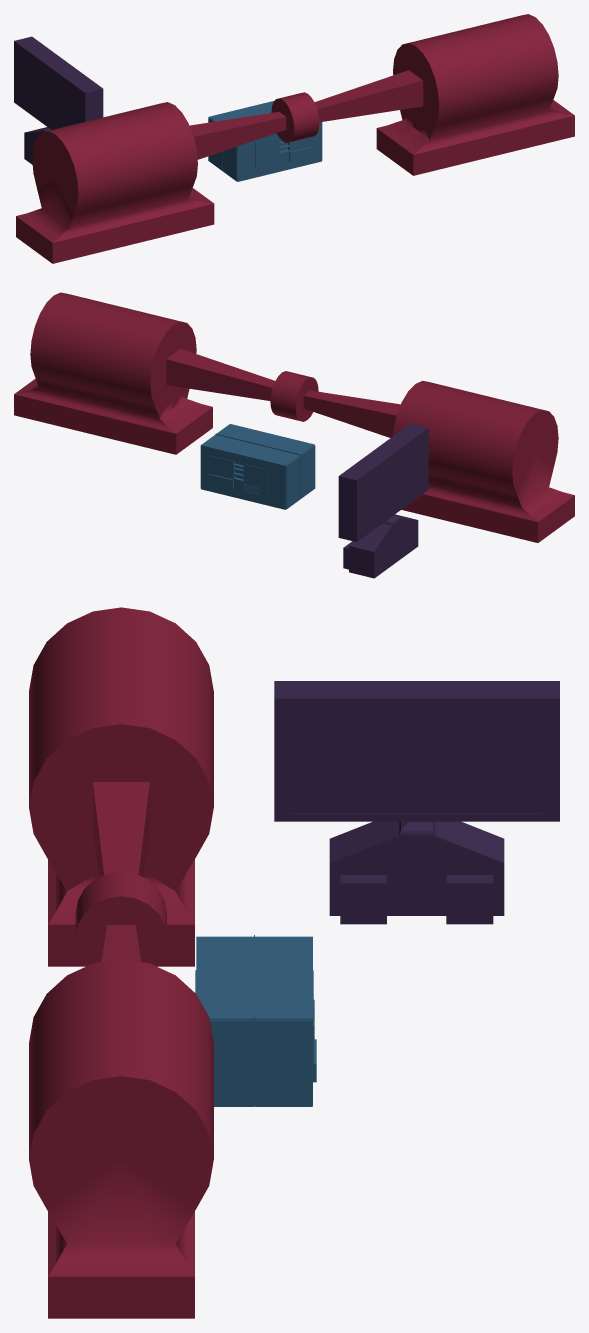
The model's file is Generator Room Furniture.obj.
The picture shows the model from 3 angles, top to bottom: view 1: azimuth 30°, elevation 25°; view 2: azimuth 150°, elevation 25°; view 3: azimuth 270°, elevation 25°; orthographic projection. The views are drawn at different scales.
Parts seen in each view (by area): view 1: Broken_Open_Generator, Generator_Computer, Generator_Storage; view 2: Broken_Open_Generator, Generator_Computer, Generator_Storage; view 3: Broken_Open_Generator, Generator_Computer, Generator_Storage.
Boxes of the visible parts, x1=… form: Broken_Open_Generator: x1=16, y1=14, x2=574, y2=263; Generator_Computer: x1=14, y1=36, x2=103, y2=164; Generator_Storage: x1=208, y1=100, x2=322, y2=181; Broken_Open_Generator: x1=14, y1=292, x2=574, y2=542; Generator_Computer: x1=338, y1=423, x2=428, y2=578; Generator_Storage: x1=200, y1=424, x2=315, y2=509; Broken_Open_Generator: x1=29, y1=607, x2=213, y2=1318; Generator_Computer: x1=274, y1=681, x2=559, y2=924; Generator_Storage: x1=195, y1=935, x2=316, y2=1106.
Bounding box in the file's own units: 62.16 × 12.62 × 27.36.
